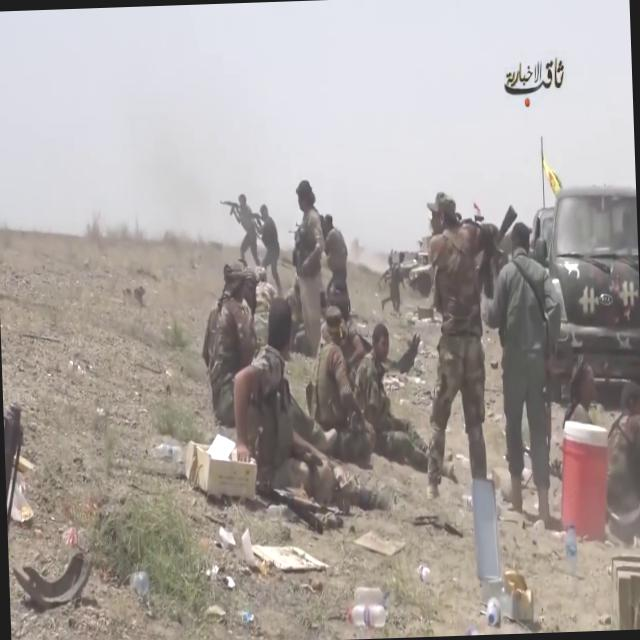long weapon: (217, 195, 240, 224)
